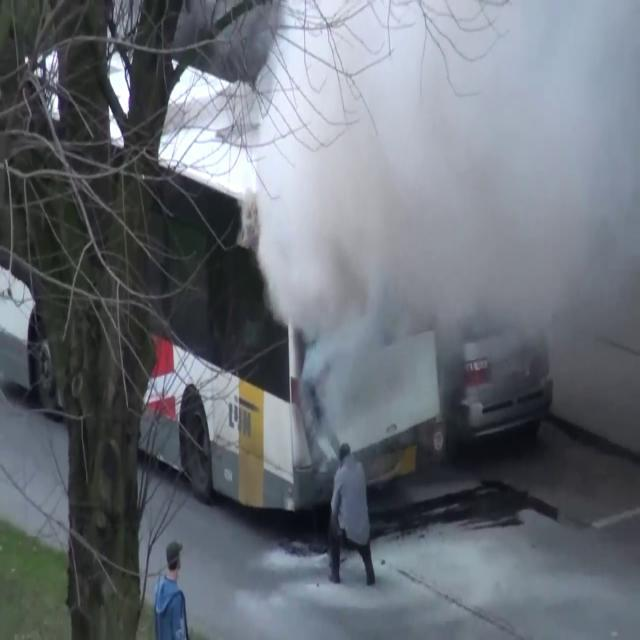Smoke: (238, 1, 640, 474)
